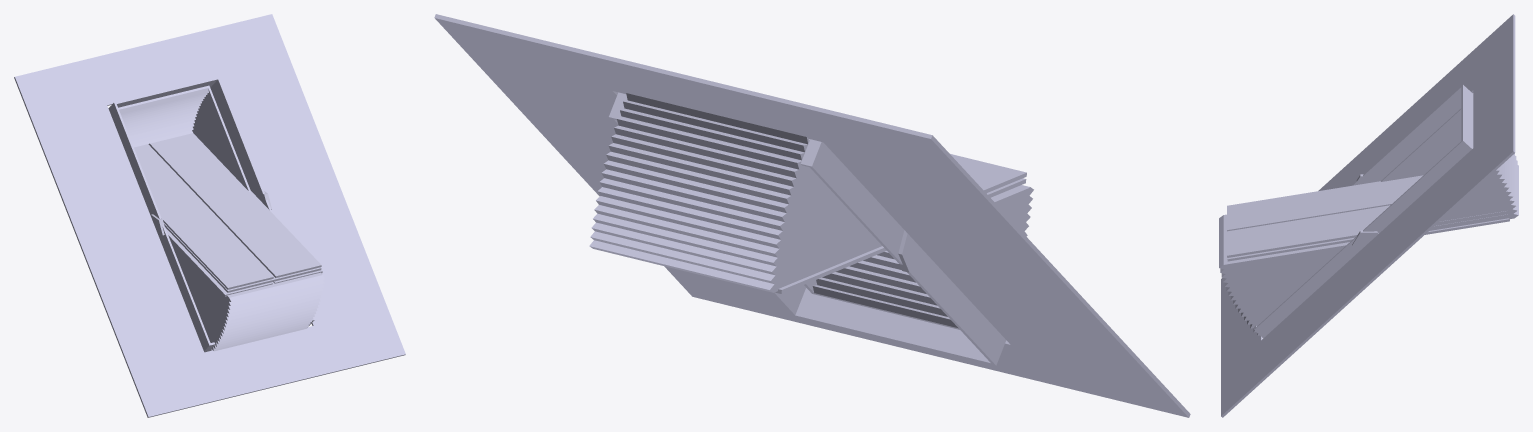
File: RotateDock_010deg.glb
3 views of the same model, side by side, from view 1: azimuth 30°, elevation 25°; view 2: azimuth 150°, elevation 25°; view 3: azimuth 270°, elevation 25° (orthographic). The views are drawn at different scales.
Visible parts, largest first — view 1: copy_Body021, copy_LinkGroup004, copy_Body023, copy_Body022, copy_Body, copy_LinkGroup003; view 2: copy_Body021, copy_Body022, copy_Body, copy_Body023, copy_LinkGroup004, copy_LinkGroup003, copy_Body002; view 3: copy_Body021, copy_LinkGroup004, copy_Body, copy_Body023, copy_Body022, copy_LinkGroup003, copy_Body001.
Part boxes in pixels (x1,y1,x2,y2): copy_Body021: (14,14,405,417); copy_LinkGroup004: (134,133,321,292); copy_Body023: (170,239,324,351); copy_Body022: (118,85,250,191); copy_Body: (108,77,314,352); copy_LinkGroup003: (165,227,322,296); copy_Body021: (434,14,1190,417); copy_Body022: (589,93,881,292); copy_Body: (609,92,1006,365); copy_Body023: (804,185,1033,329); copy_LinkGroup004: (950,154,1026,197); copy_LinkGroup003: (775,185,1029,293); copy_Body002: (898,230,926,272); copy_Body021: (1221,14,1515,417); copy_LinkGroup004: (1227,175,1508,261); copy_Body: (1254,85,1473,338); copy_Body023: (1219,214,1342,335); copy_Body022: (1381,108,1518,230); copy_LinkGroup003: (1228,218,1509,266); copy_Body001: (1352,230,1378,253).
Size of the model in its own units: 1.68 by 1.52 by 1.55.
